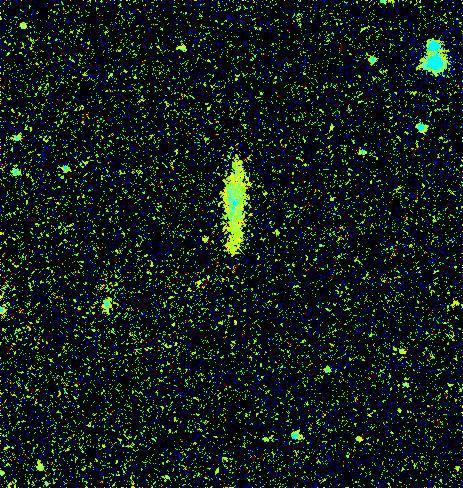star: (261, 218, 291, 248)
